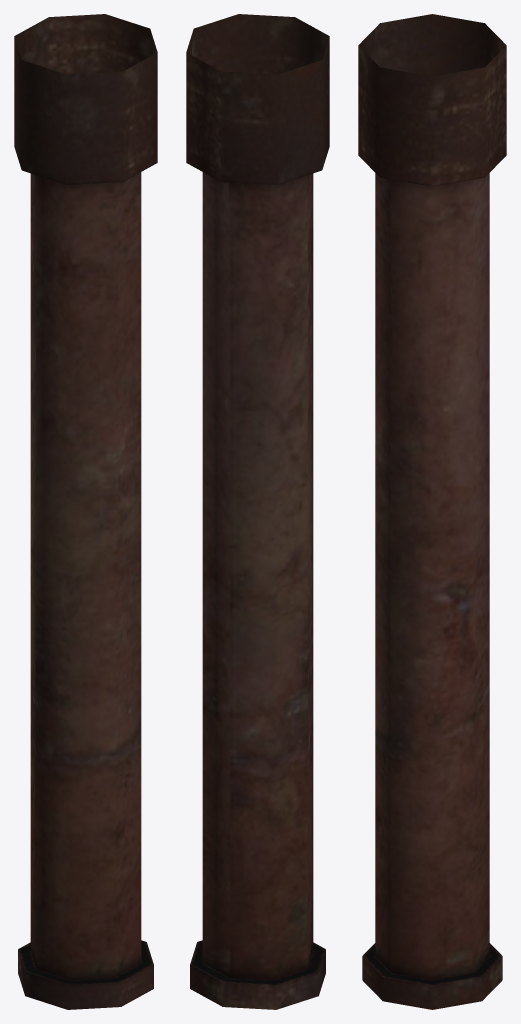
File: RustyThick_VerticalPipe_02.FBX
3 renders of one model, left to right at view 1: azimuth 30°, elevation 25°; view 2: azimuth 150°, elevation 25°; view 3: azimuth 270°, elevation 25°, orthographic.
Parts seen in each view (by area): view 1: RustyThick_VerticalPipe_02; view 2: RustyThick_VerticalPipe_02; view 3: RustyThick_VerticalPipe_02.
Part boxes in pixels (box(x1,y1,x2,y2)): RustyThick_VerticalPipe_02: box(14, 14, 157, 1009); RustyThick_VerticalPipe_02: box(186, 14, 329, 1009); RustyThick_VerticalPipe_02: box(358, 14, 506, 1009).
Bounding box in the file's own units: 39.86 × 278 × 39.86.
